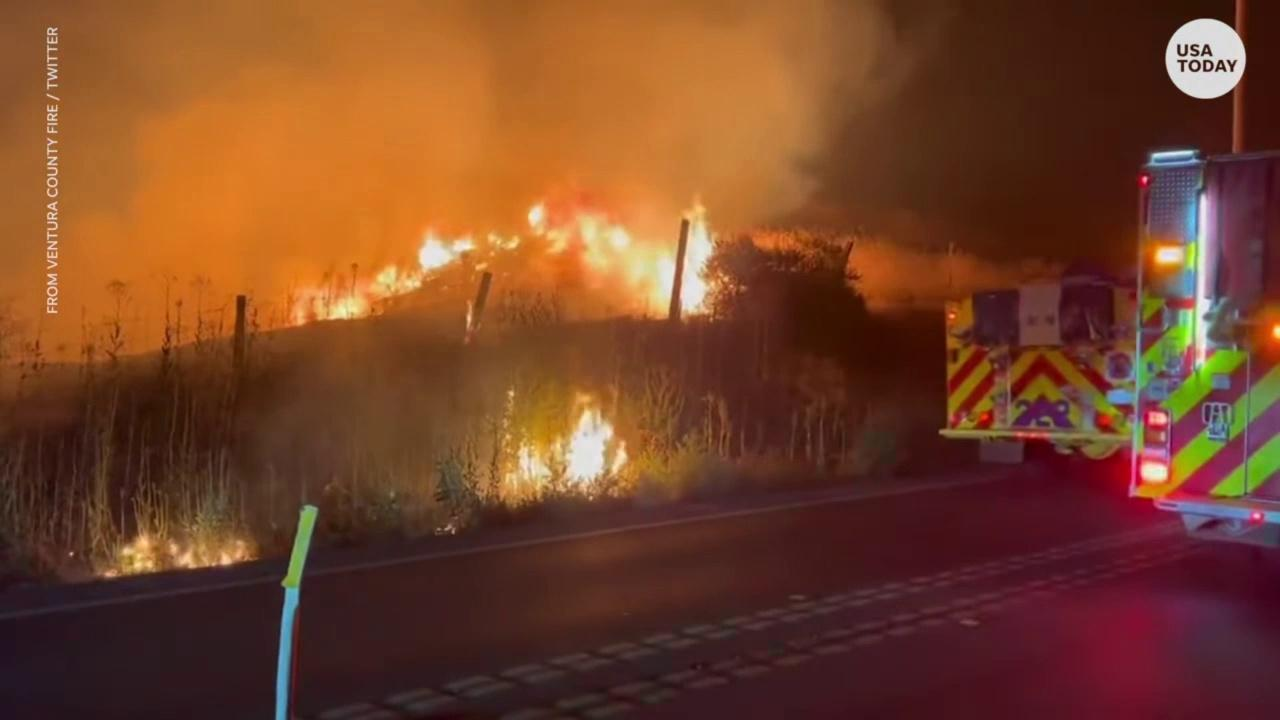fire: (291, 229, 477, 327), (503, 387, 628, 501), (656, 219, 713, 311), (167, 538, 252, 568), (120, 537, 156, 575), (487, 231, 522, 251), (607, 226, 631, 250), (527, 204, 544, 228), (464, 299, 474, 331), (443, 523, 456, 535), (103, 569, 117, 579), (475, 262, 489, 271)
smoke: (225, 0, 1176, 538)
